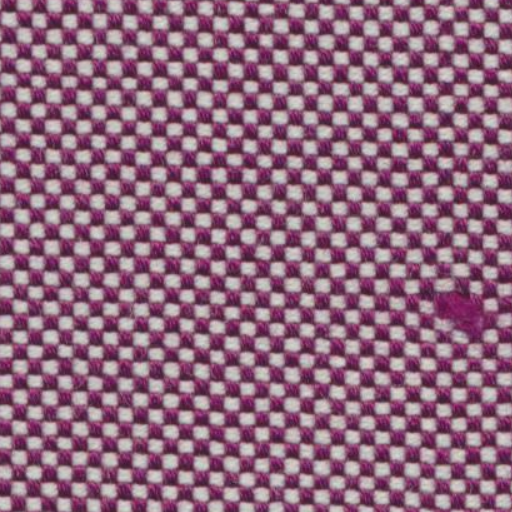MianQiu: (417, 266, 500, 347)
